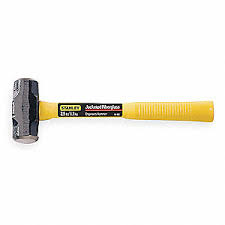hammer: (12, 78, 214, 144)
